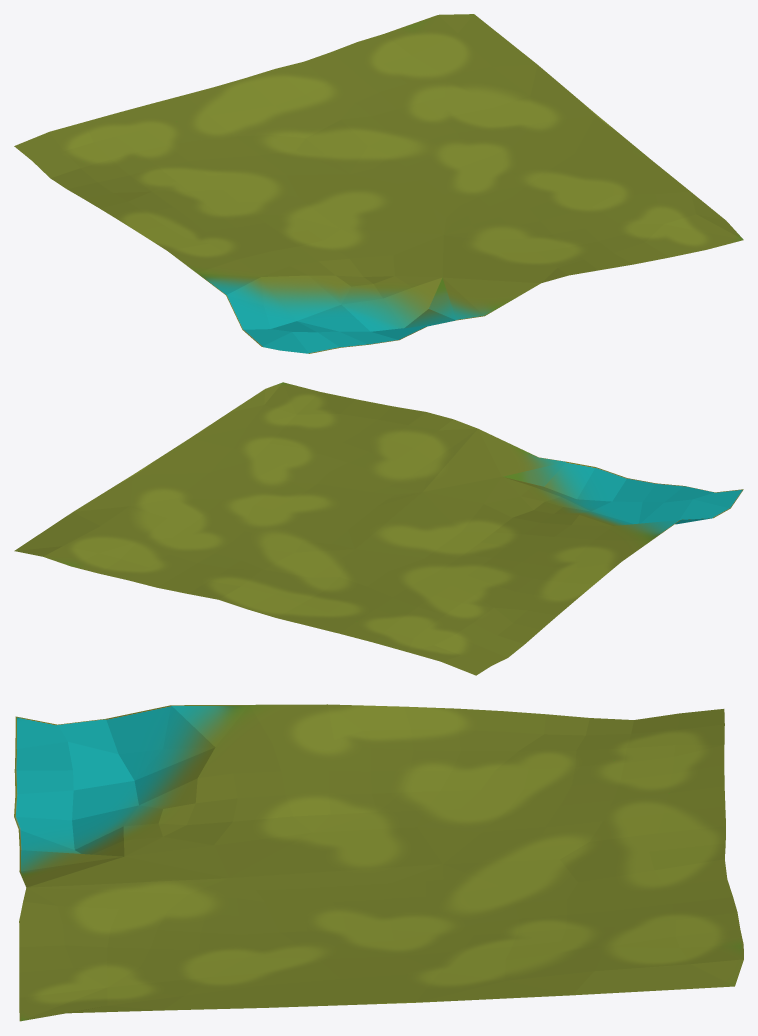
Rendered from River Terain Low Poly New 1.glb.
The picture shows the model from 3 angles, top to bottom: view 1: azimuth 30°, elevation 25°; view 2: azimuth 150°, elevation 25°; view 3: azimuth 270°, elevation 25°; orthographic projection. The views are drawn at different scales.
Visible parts, largest first — view 1: Plane; view 2: Plane; view 3: Plane.
Boxes of the visible parts, box(x1,y1,x2,y2) form: Plane: box(14, 14, 743, 353); Plane: box(14, 382, 743, 675); Plane: box(14, 704, 743, 1021).
Size of the model in its own units: 30.8 by 3.58 by 31.27.
Materials: 1 (1 with a texture image).
